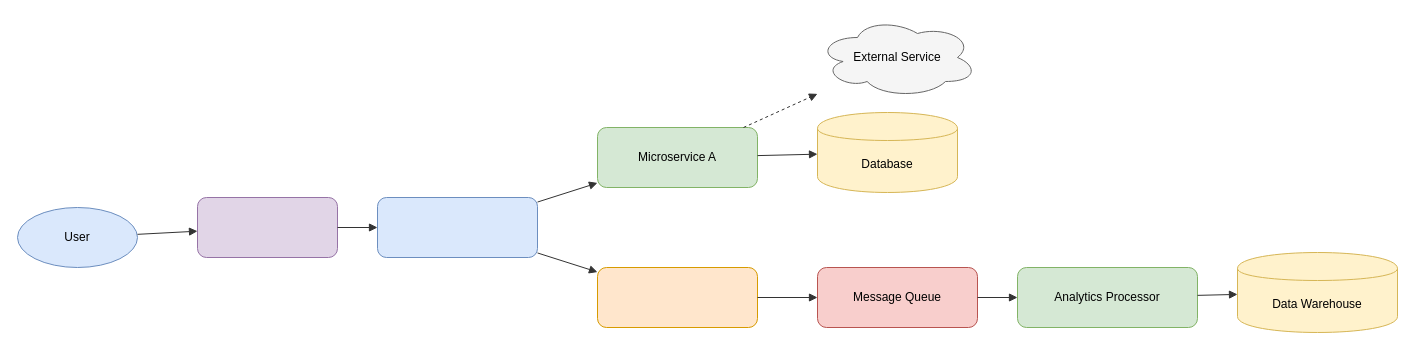
Image size: 1415x350. Some labels were removed from this diagram. The shapes that lost their labels are listed below. From the top down, each one's centre as x and y in pixels, then its label:
At (x=267, y=227): "Frontend".
At (x=457, y=227): "API Gateway".
At (x=677, y=297): "Microservice B".
